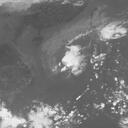cyclone: (61, 44, 87, 77)
